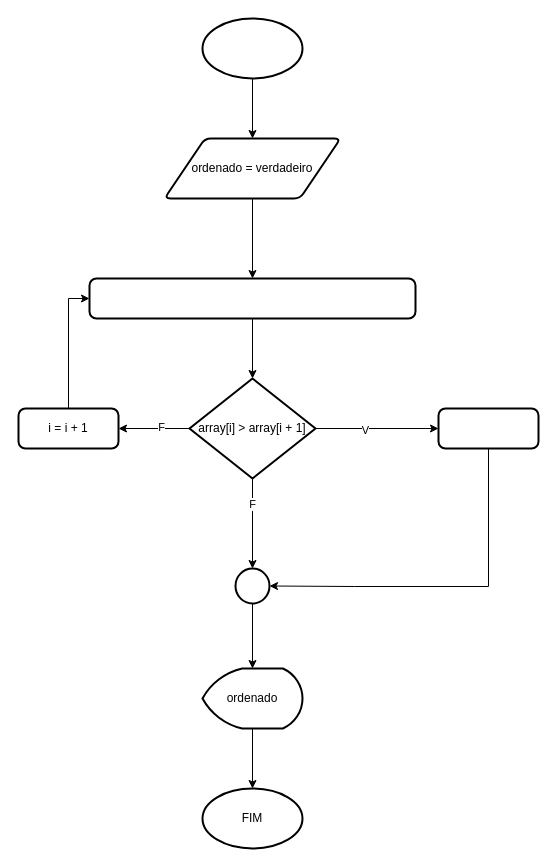
This 556x866 diagram has some shape labels left out. The shapes that lost their labels are listed below. From the top down, each one's centre as x and y in pixels, then its label:
At (252,48): "INICIO".
At (252,298): "enquanto(i < tamanho_array -1 e ordenado = verdadeiro)".
At (488,428): "ordenado = falso".
